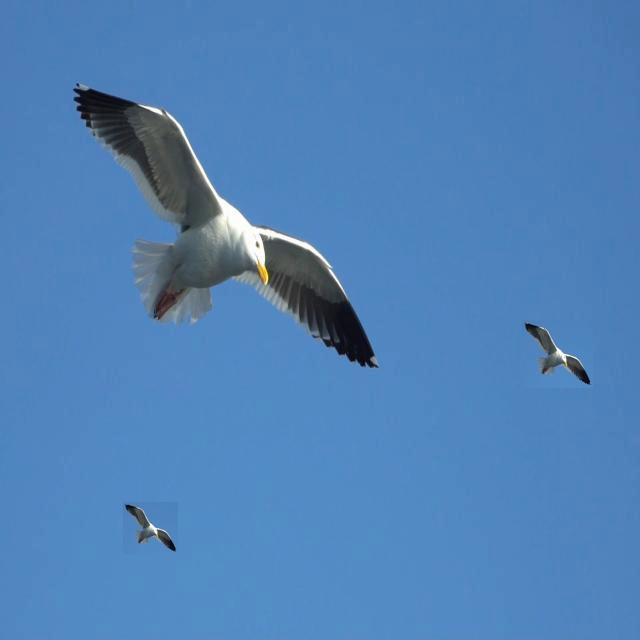bird: (64, 63, 392, 380), (522, 325, 592, 385), (124, 505, 178, 552)
